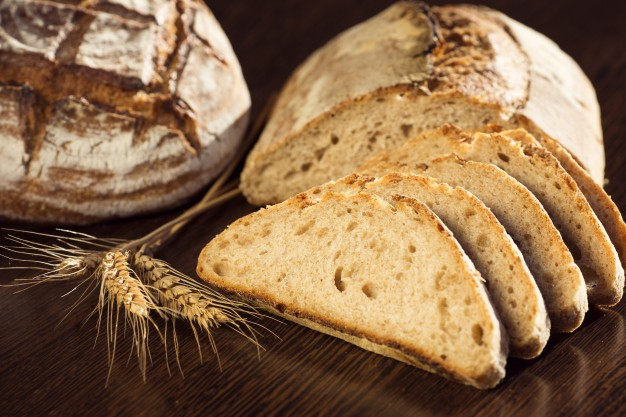slice of bread: (206, 184, 609, 375)
